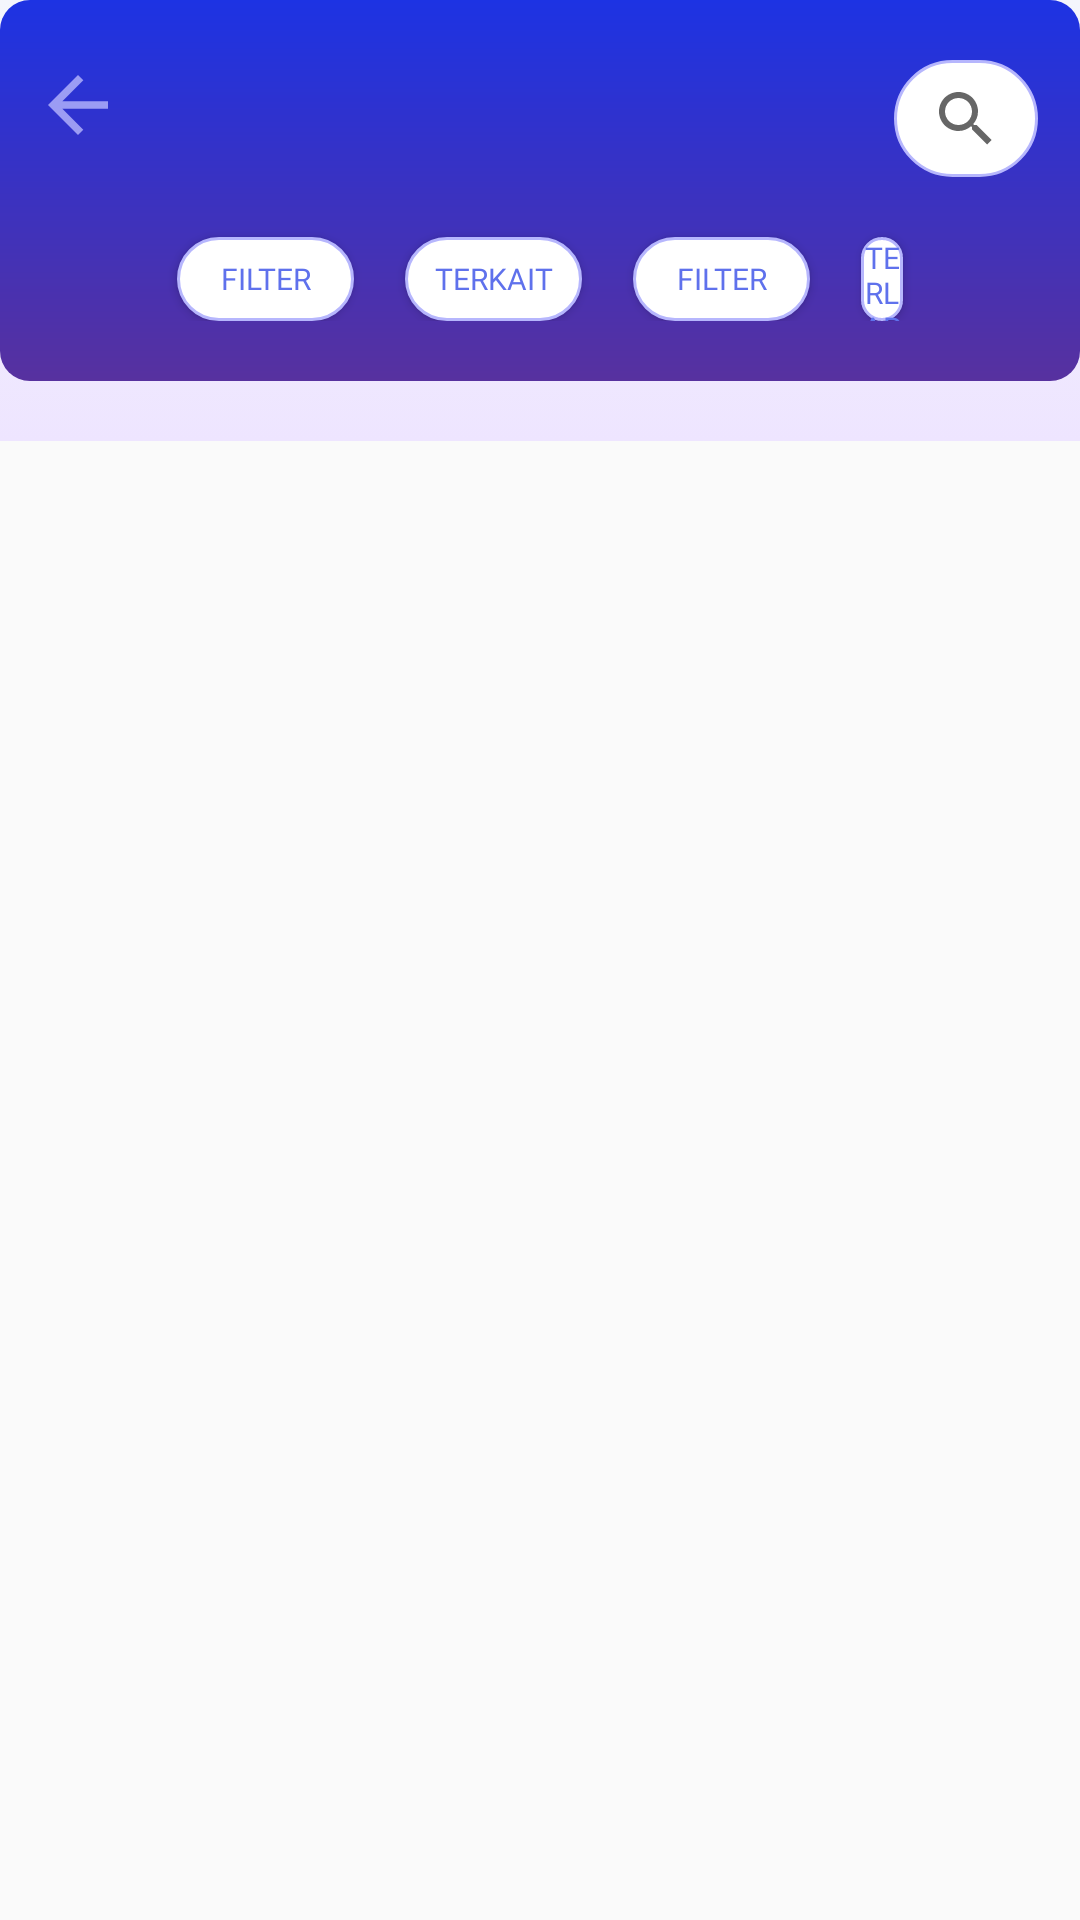

Icons on this 1080×1920 Android screen, each with its box as (x1, y1, x2, y2):
search back: (48, 75, 108, 135)
